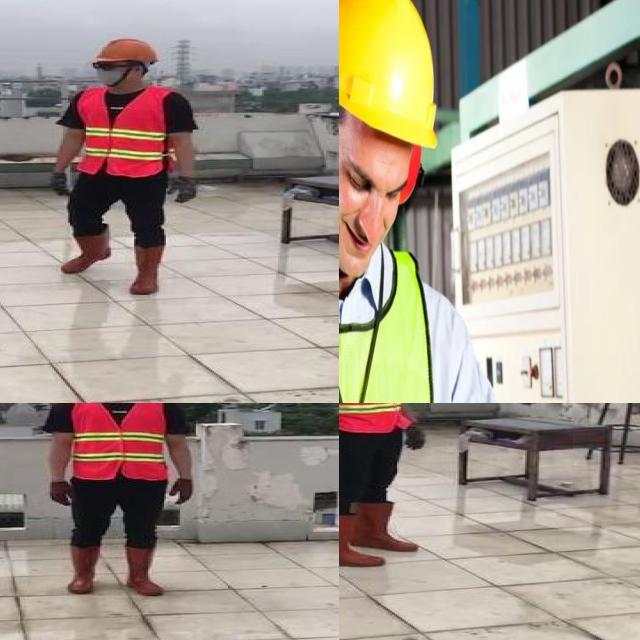Ear-protection: (339, 11, 444, 299)
No_Glasses: (339, 142, 403, 220)
boots: (349, 493, 417, 551), (339, 512, 383, 566), (61, 229, 111, 274), (127, 244, 166, 296), (127, 545, 164, 596), (66, 543, 102, 594)
face_mask: (91, 59, 129, 88)
glasses: (86, 59, 130, 73)
hand_glove: (168, 178, 200, 203), (47, 172, 72, 198), (402, 425, 426, 452), (170, 477, 192, 505), (51, 481, 74, 506)
head_helmet: (91, 36, 159, 64)
person: (44, 36, 202, 298), (39, 403, 194, 596), (339, 403, 435, 566)
vest: (77, 87, 173, 177), (73, 403, 167, 481)
